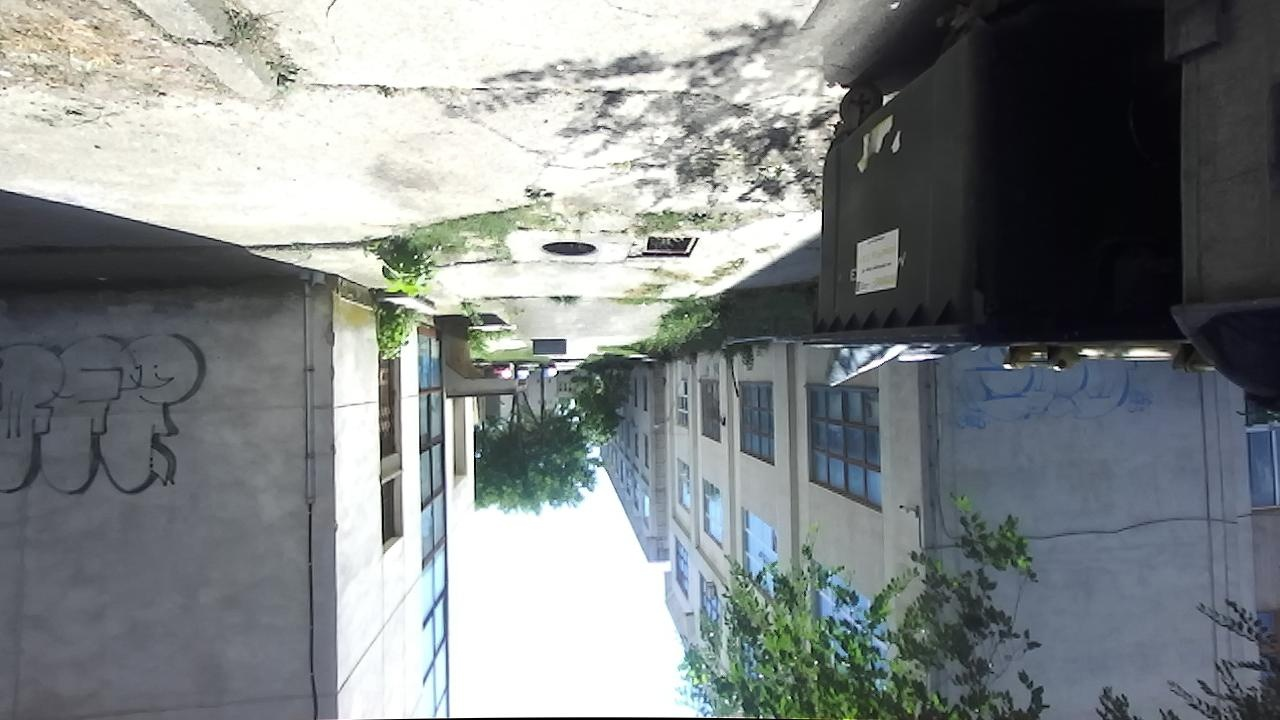drain: (639, 230, 704, 260), (538, 235, 602, 260)
